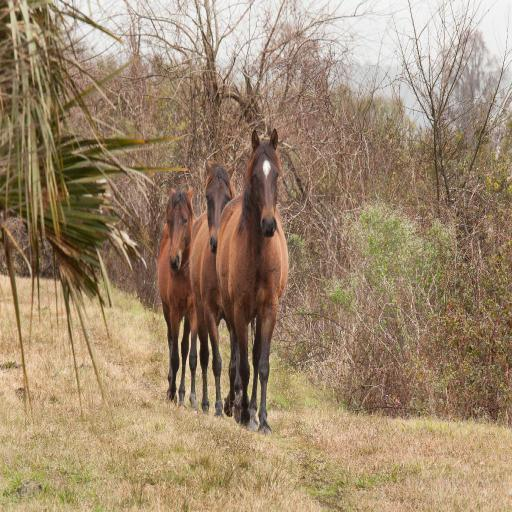horse: (214, 128, 290, 434), (188, 157, 236, 419), (154, 188, 196, 408)
